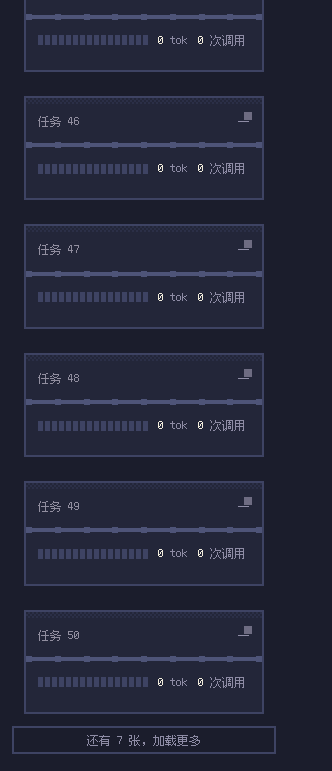
Scenario: 看板列：列内上限折叠显头部（票 04） › 点「加载更多」：游标推进一页（50 → 57 全出）
(page scrolled)
Click the button "还有 7 张，加载更多" at (144, 740), box x1=12 y1=726 x2=276 y2=754
(page scrolled)
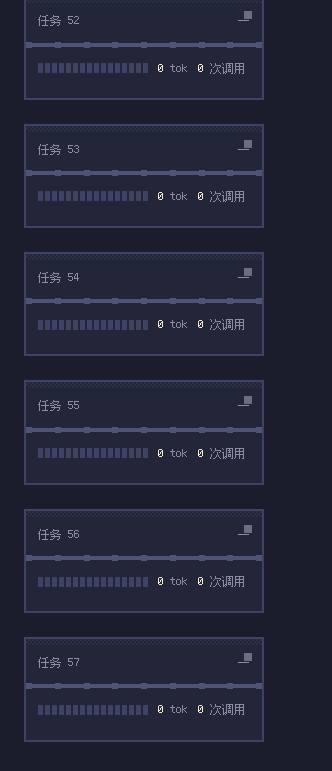
Result: the text "任务 57" is shown at x1=38 y1=653 x2=80 y2=671
Result: the button "加载更多" is gone
